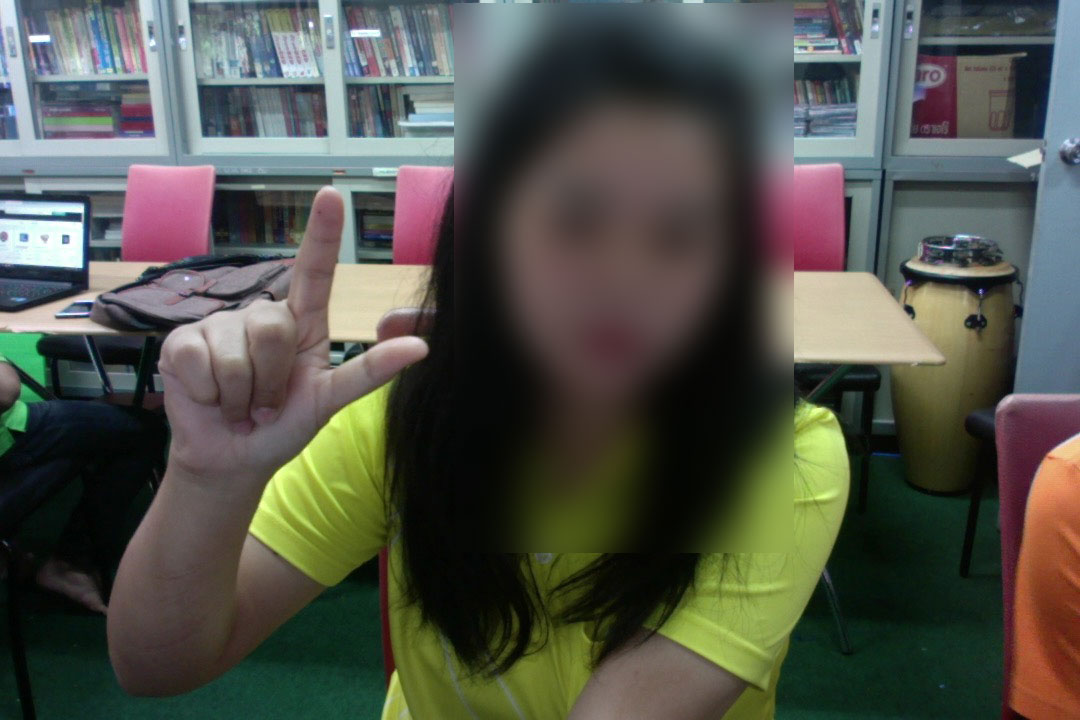lor: (132, 164, 445, 499)
